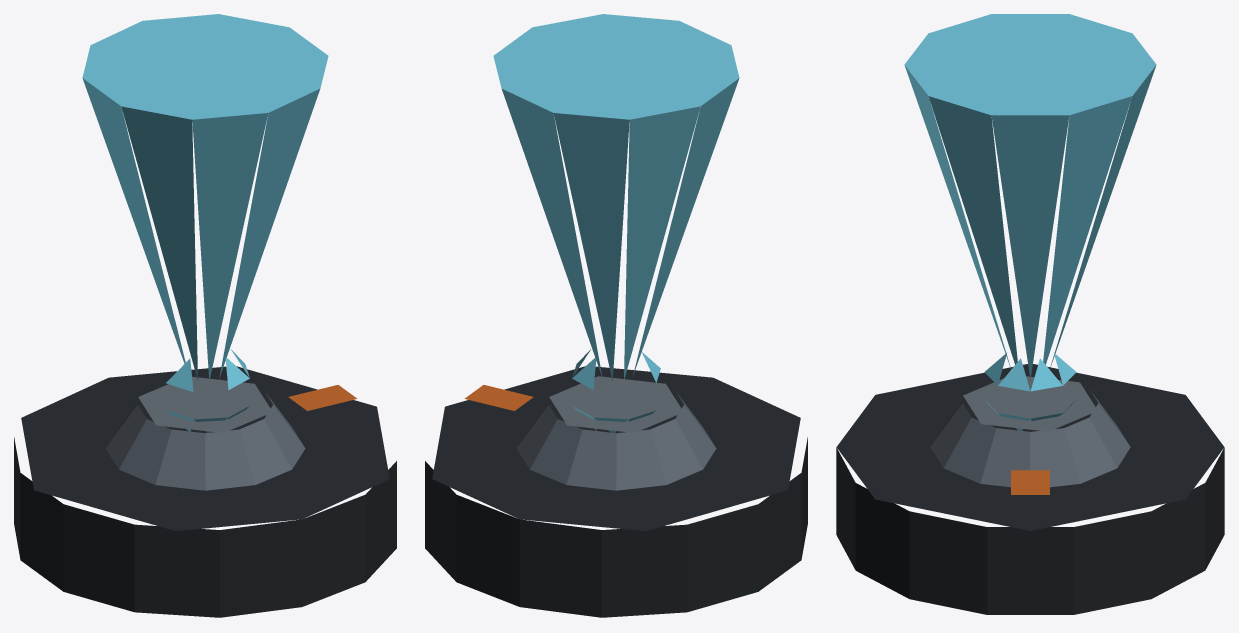
The model's file is holocomm.lod.glb.
The picture shows the model from 3 angles, left to right: view 1: azimuth 30°, elevation 25°; view 2: azimuth 150°, elevation 25°; view 3: azimuth 270°, elevation 25°; orthographic projection.
Parts seen in each view (by area): view 1: m; view 2: m; view 3: m.
Part boxes in pixels (x1,y1,x2,y2): m: (14, 14, 396, 617); m: (425, 14, 807, 617); m: (836, 14, 1224, 614).
Bounding box in the file's own units: 0.0765 × 0.1 × 0.0748.
